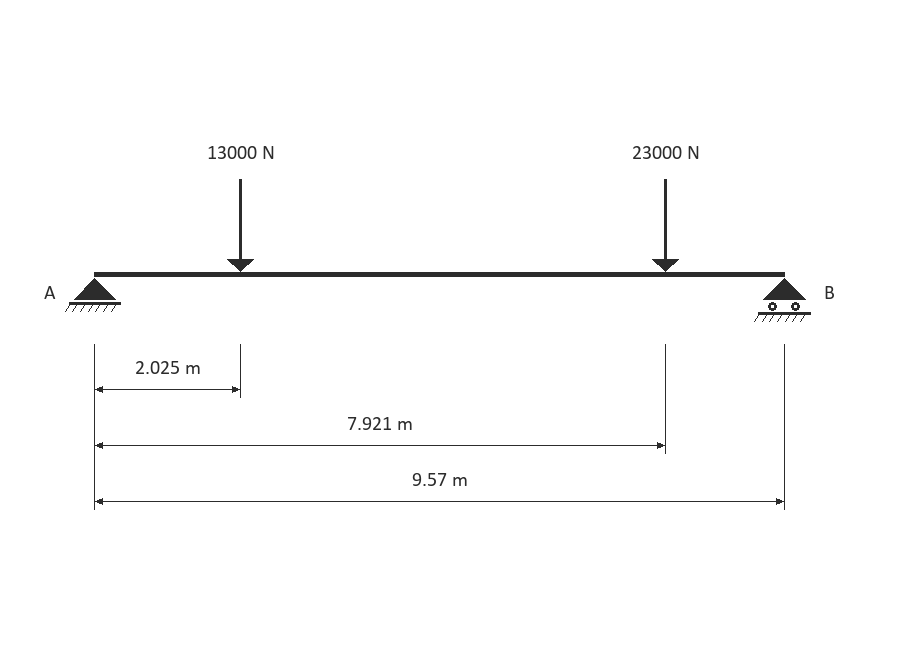pin_support: (65, 278, 121, 312)
point_load: (227, 179, 254, 272), (652, 179, 679, 272)
roller_support: (754, 278, 811, 322)
